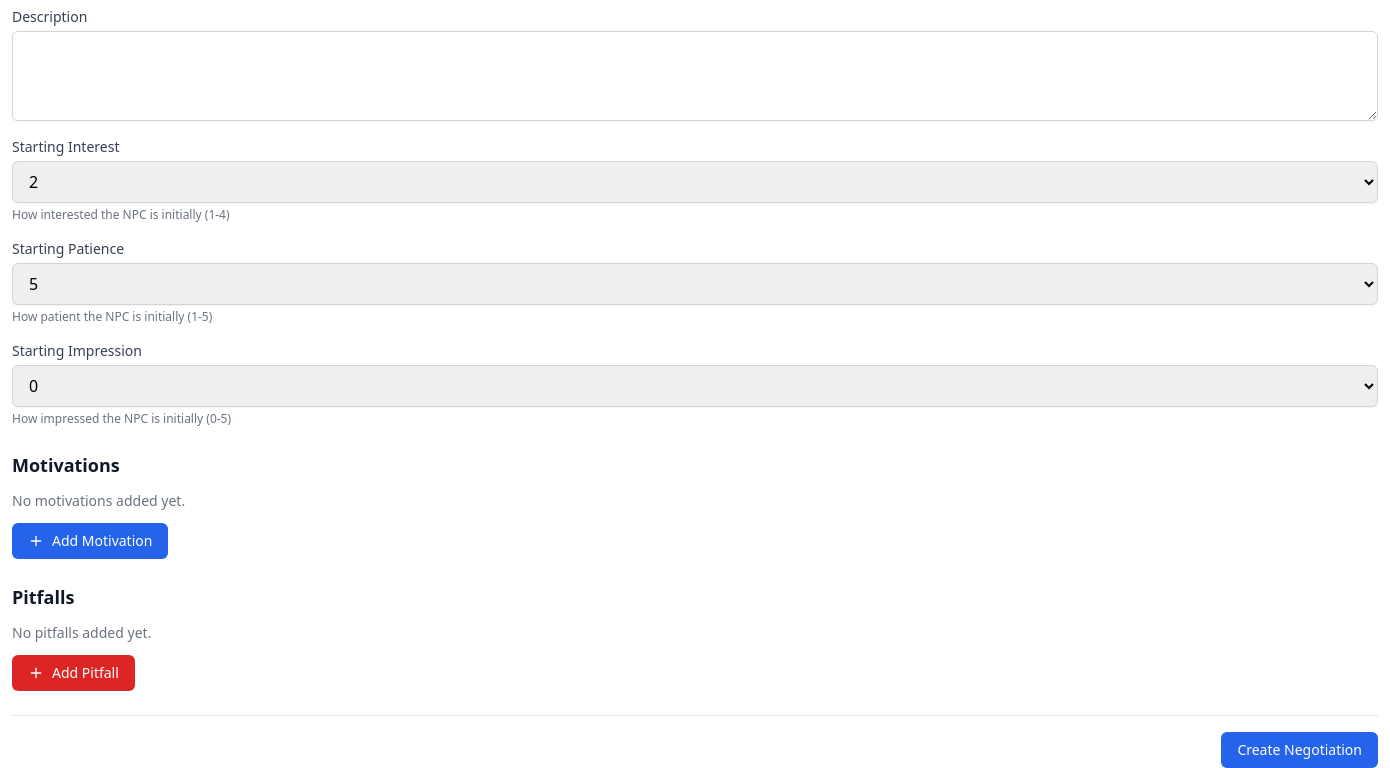
Test case: NegotiationSetup Component - Motivation Configuration › should remove motivation when remove button clicked
The image size is (1390, 768).
(page scrolled)
Click the button "Add Motivation" at (90, 541), box [12, 523, 168, 559]
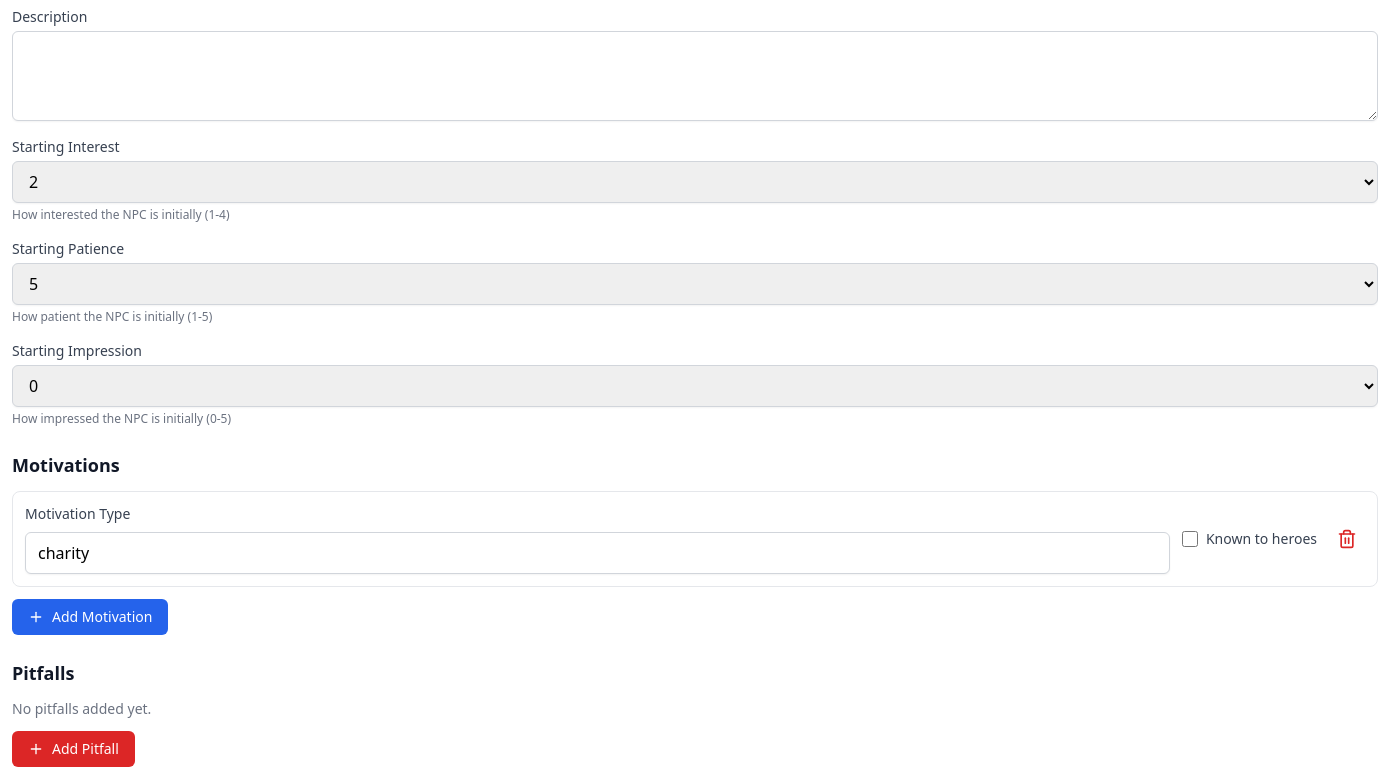
Click the button named "Remove motivation" at (1347, 539), box [1329, 521, 1365, 557]
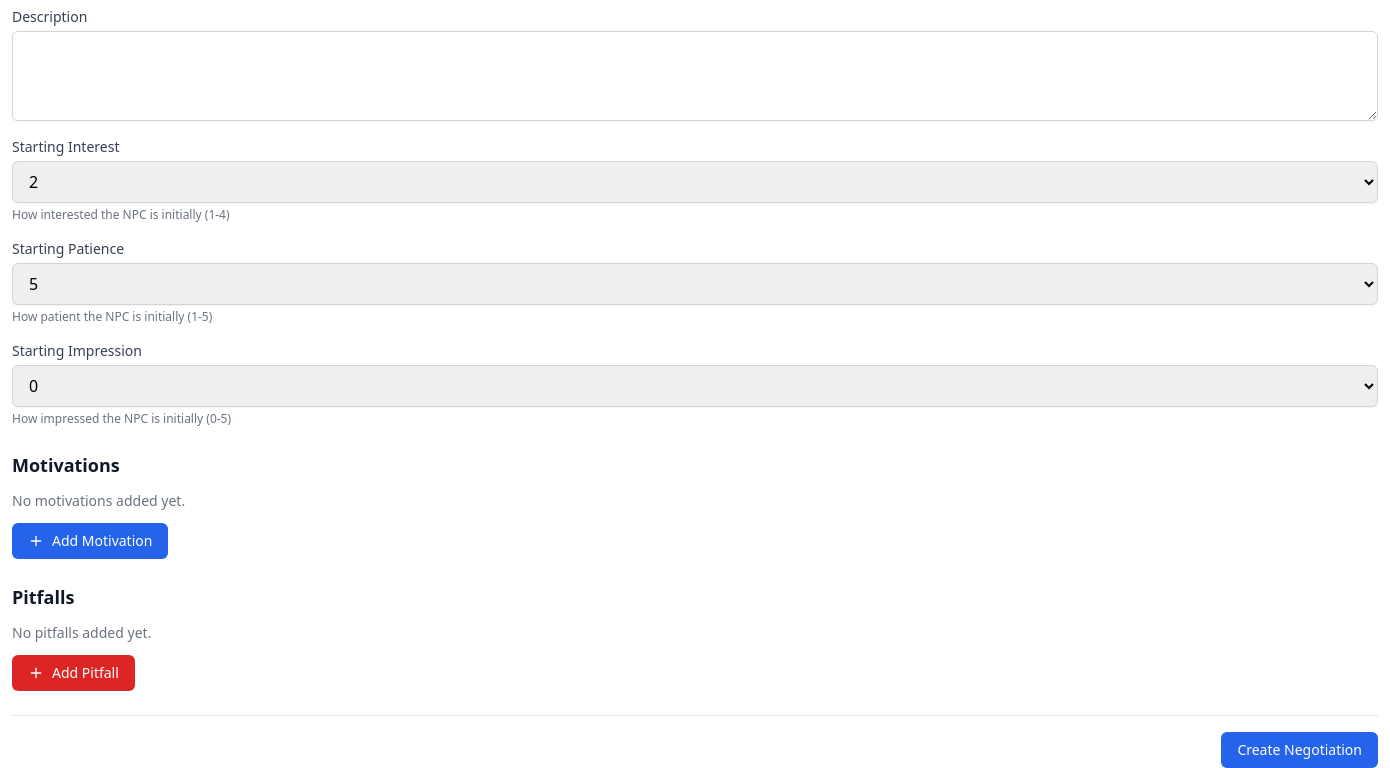
Result: the label labelled "Motivation Type" is gone
